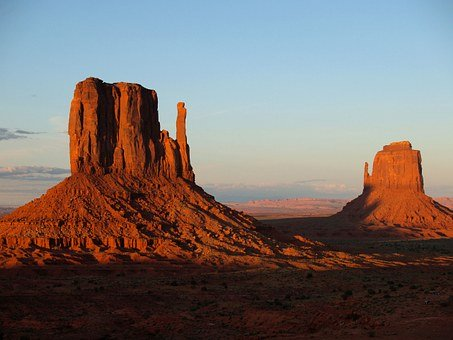mountain: (45, 83, 266, 265), (332, 144, 444, 246)
sky: (6, 1, 429, 173)
